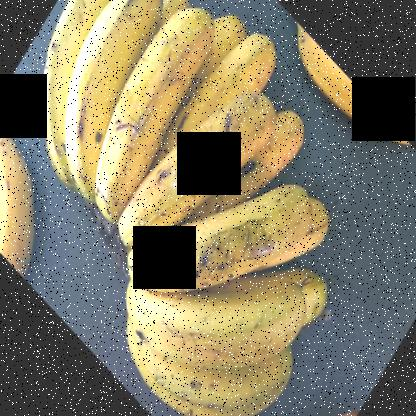ripe: (88, 3, 206, 221), (115, 104, 280, 242), (125, 185, 318, 297), (122, 267, 304, 364), (69, 1, 156, 193), (118, 353, 302, 415), (1, 107, 43, 295)
